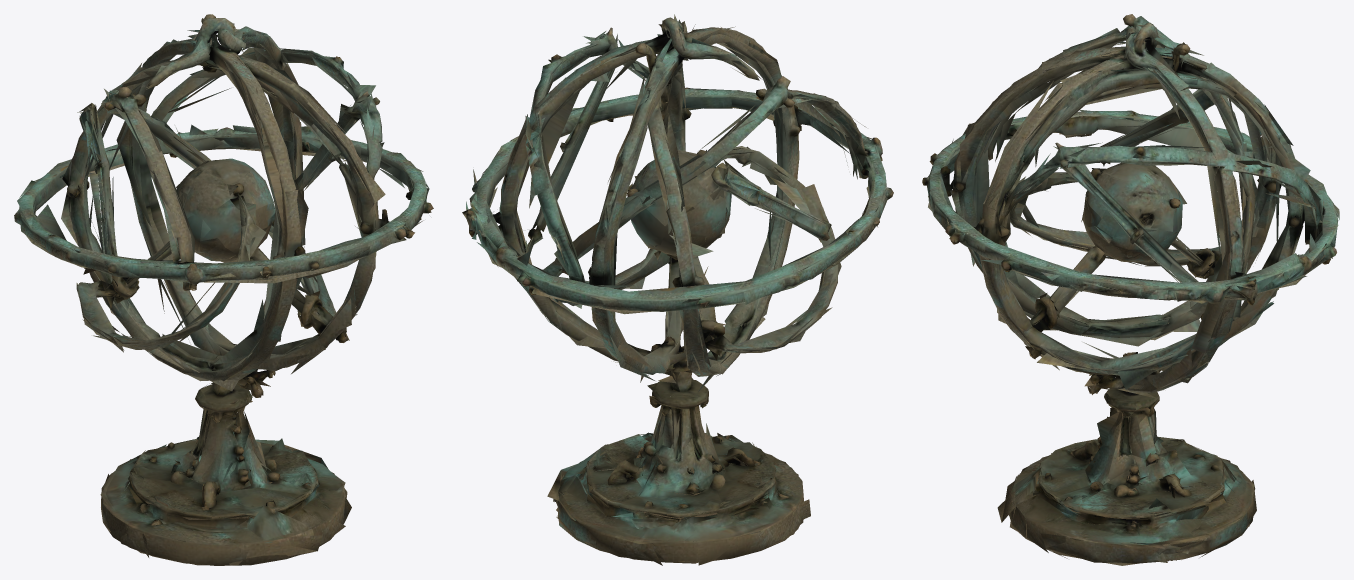
File: sunken-astrolabe.glb
3 renders of one model, left to right at view 1: azimuth 30°, elevation 25°; view 2: azimuth 150°, elevation 25°; view 3: azimuth 270°, elevation 25°, orthographic.
Parts seen in each view (by area): view 1: sunken-astrolabe, sunken-astrolabe_far, sunken-astrolabe_lod; view 2: sunken-astrolabe, sunken-astrolabe_lod, sunken-astrolabe_far; view 3: sunken-astrolabe, sunken-astrolabe_lod, sunken-astrolabe_far.
Boxes of the visible parts, bbox=[...] form: sunken-astrolabe: bbox=[14, 14, 433, 565]; sunken-astrolabe_far: bbox=[17, 29, 429, 565]; sunken-astrolabe_lod: bbox=[18, 18, 429, 565]; sunken-astrolabe: bbox=[466, 17, 893, 563]; sunken-astrolabe_lod: bbox=[462, 14, 891, 565]; sunken-astrolabe_far: bbox=[471, 24, 886, 565]; sunken-astrolabe: bbox=[922, 14, 1338, 563]; sunken-astrolabe_lod: bbox=[927, 16, 1337, 560]; sunken-astrolabe_far: bbox=[928, 23, 1339, 565].
Size of the model in its own units: 3.84 by 5.08 by 3.88.
1 material, 1 textured.
